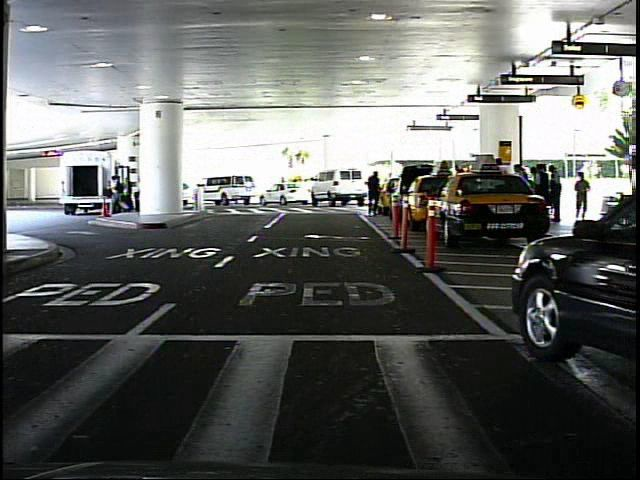person: (362, 164, 386, 220), (572, 167, 592, 225)
